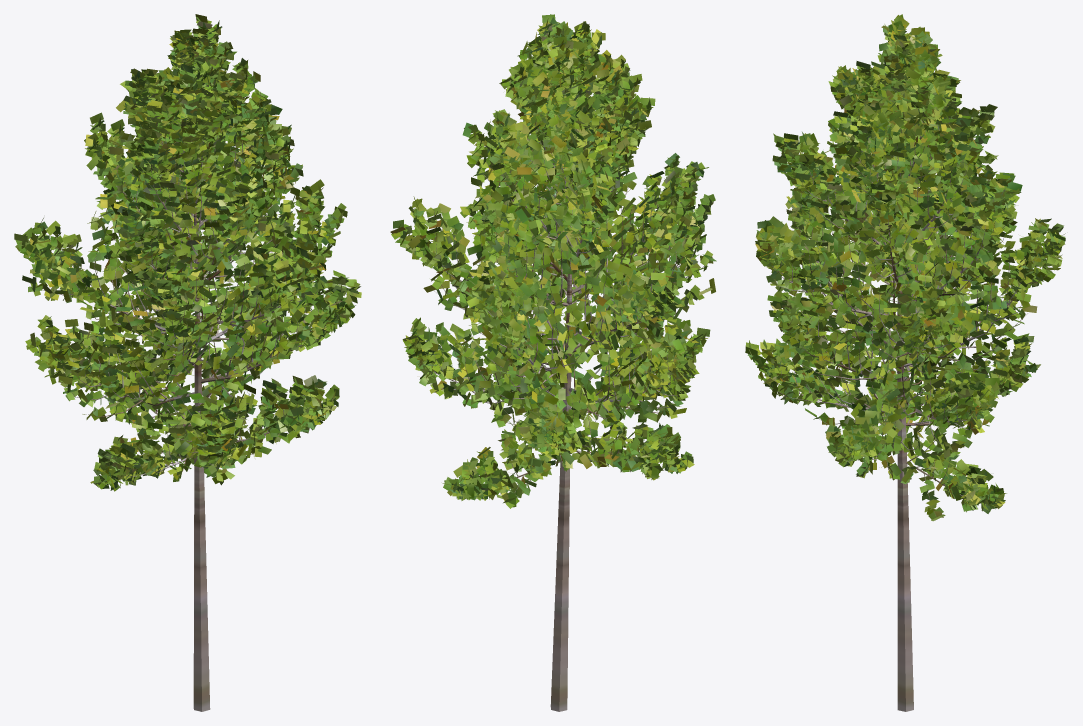
Rendered from tree.obj.
3 views of the same model, side by side, from view 1: azimuth 30°, elevation 25°; view 2: azimuth 150°, elevation 25°; view 3: azimuth 270°, elevation 25° (orthographic).
Visible parts, largest first — view 1: leaves, tree; view 2: leaves, tree; view 3: leaves, tree.
Boxes of the visible parts, bbox=[...] form: leaves: bbox=[14, 14, 361, 491]; tree: bbox=[40, 86, 334, 711]; leaves: bbox=[390, 14, 716, 508]; tree: bbox=[419, 59, 706, 711]; leaves: bbox=[745, 14, 1065, 521]; tree: bbox=[762, 75, 1057, 711].
Bounding box in the file's own units: 3.41 × 7.35 × 3.15.
Materials: 2 (2 with a texture image).
